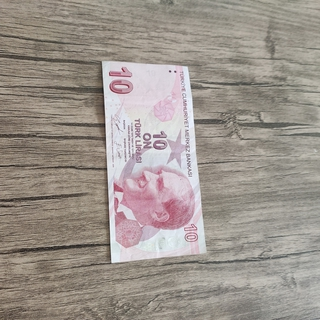10TLFront: (101, 59, 208, 264)
